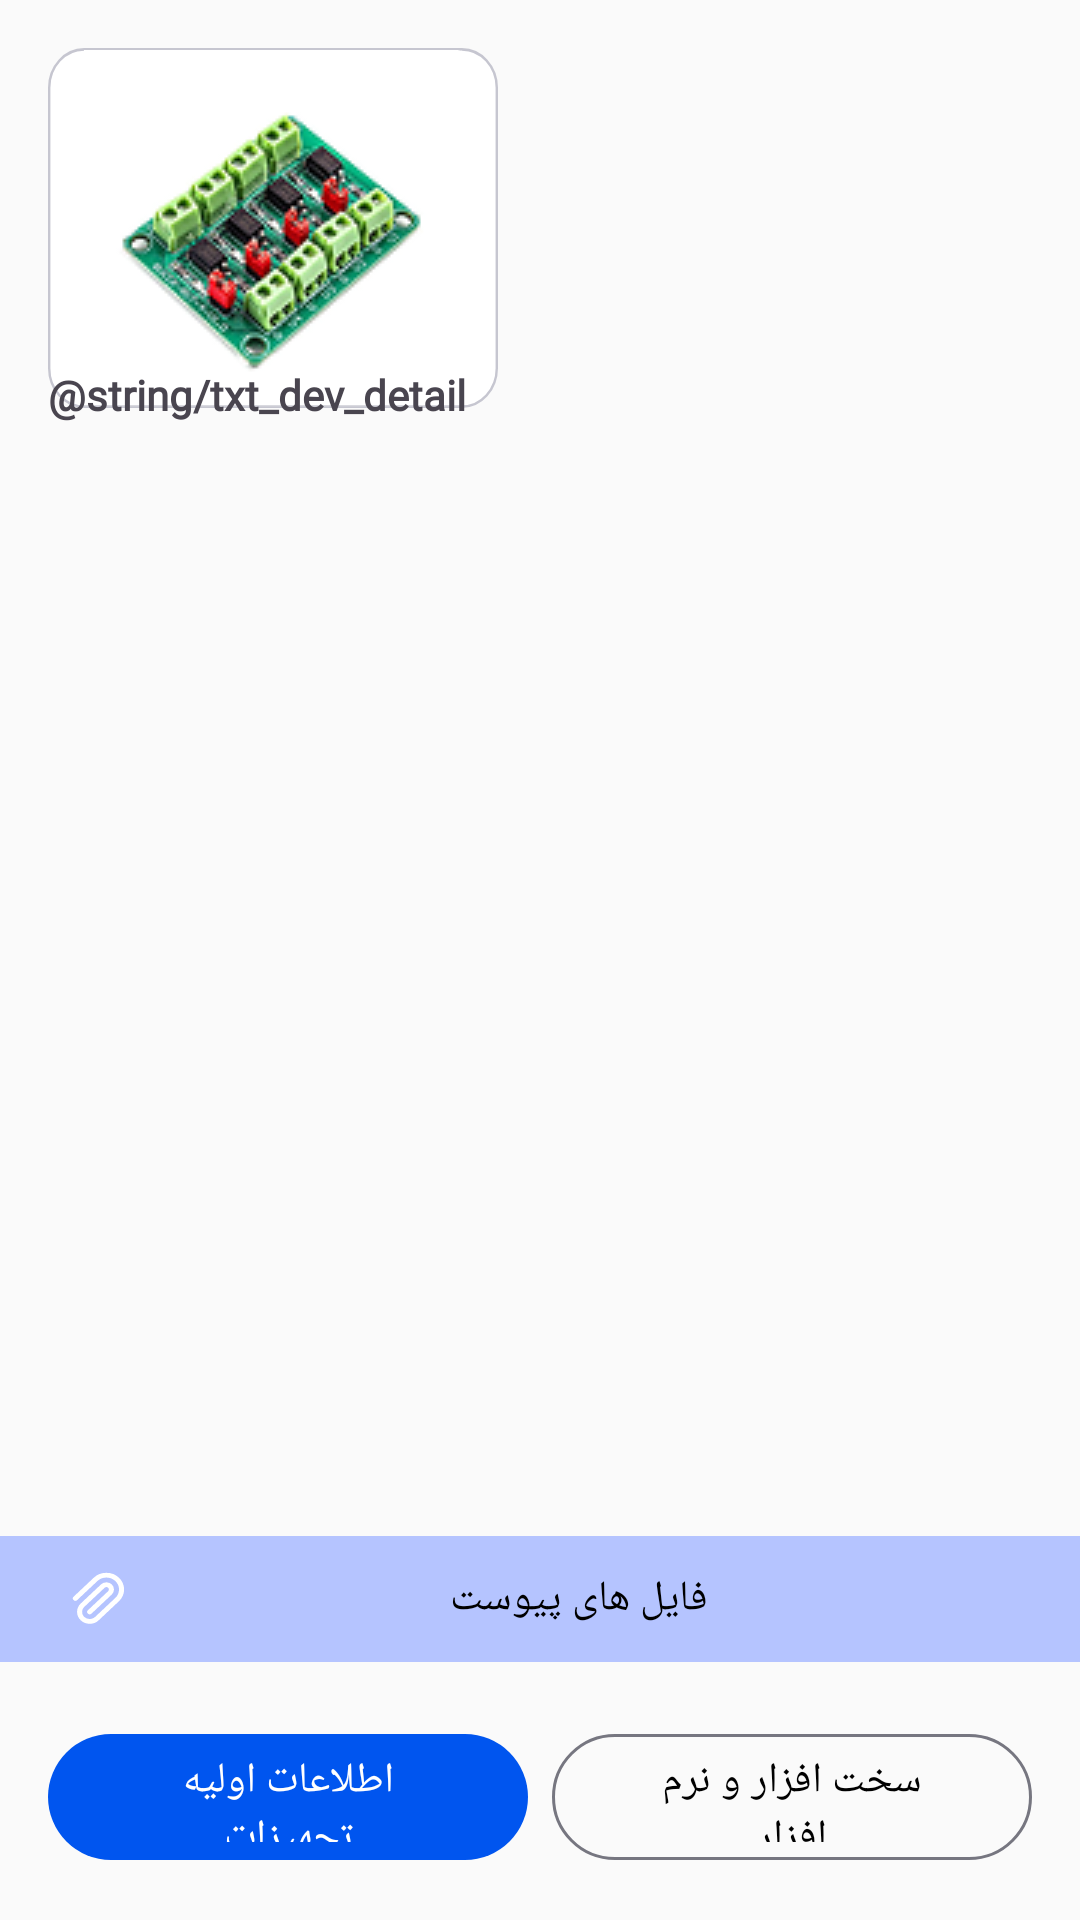

Icon click points for this 1080w x 1920h phone screenshot, format (x=x, y=y):
der equipment: (x=288, y=250)
